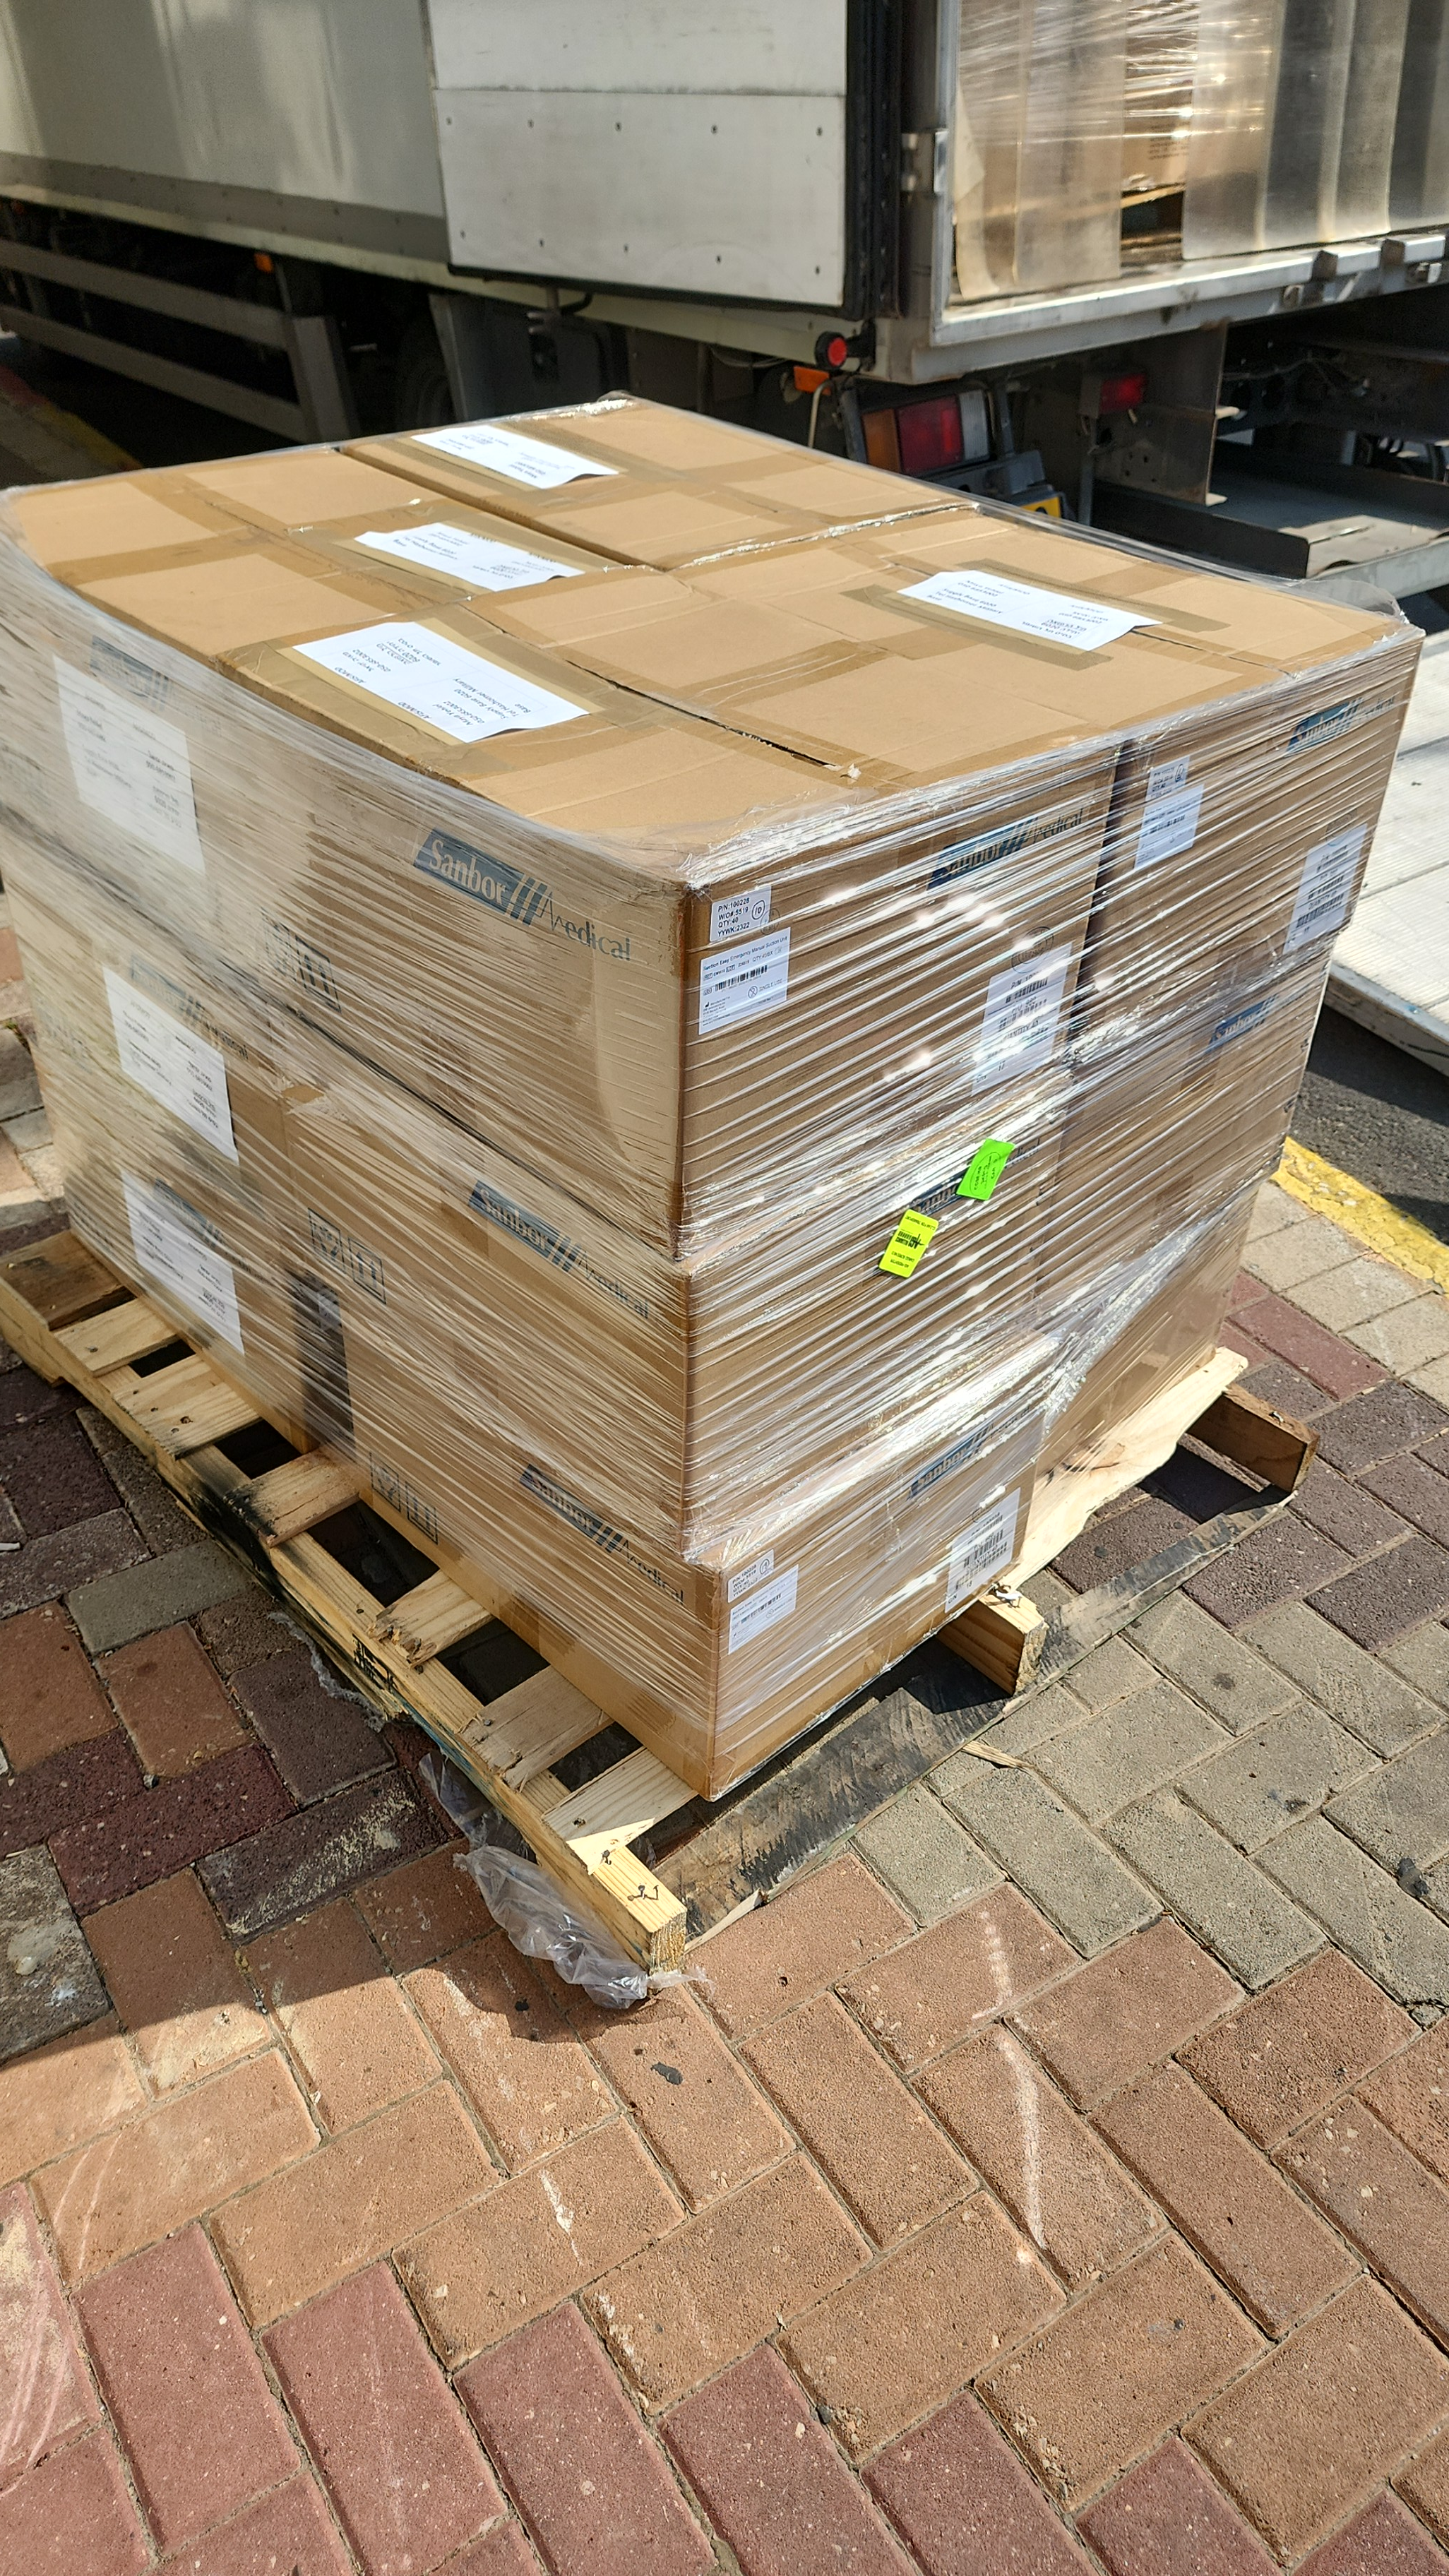box: (211, 566, 1099, 1224), (295, 1065, 1194, 1518), (856, 451, 1437, 971), (340, 1313, 1109, 1704), (1001, 1207, 1366, 1566), (1063, 954, 1352, 1251)
